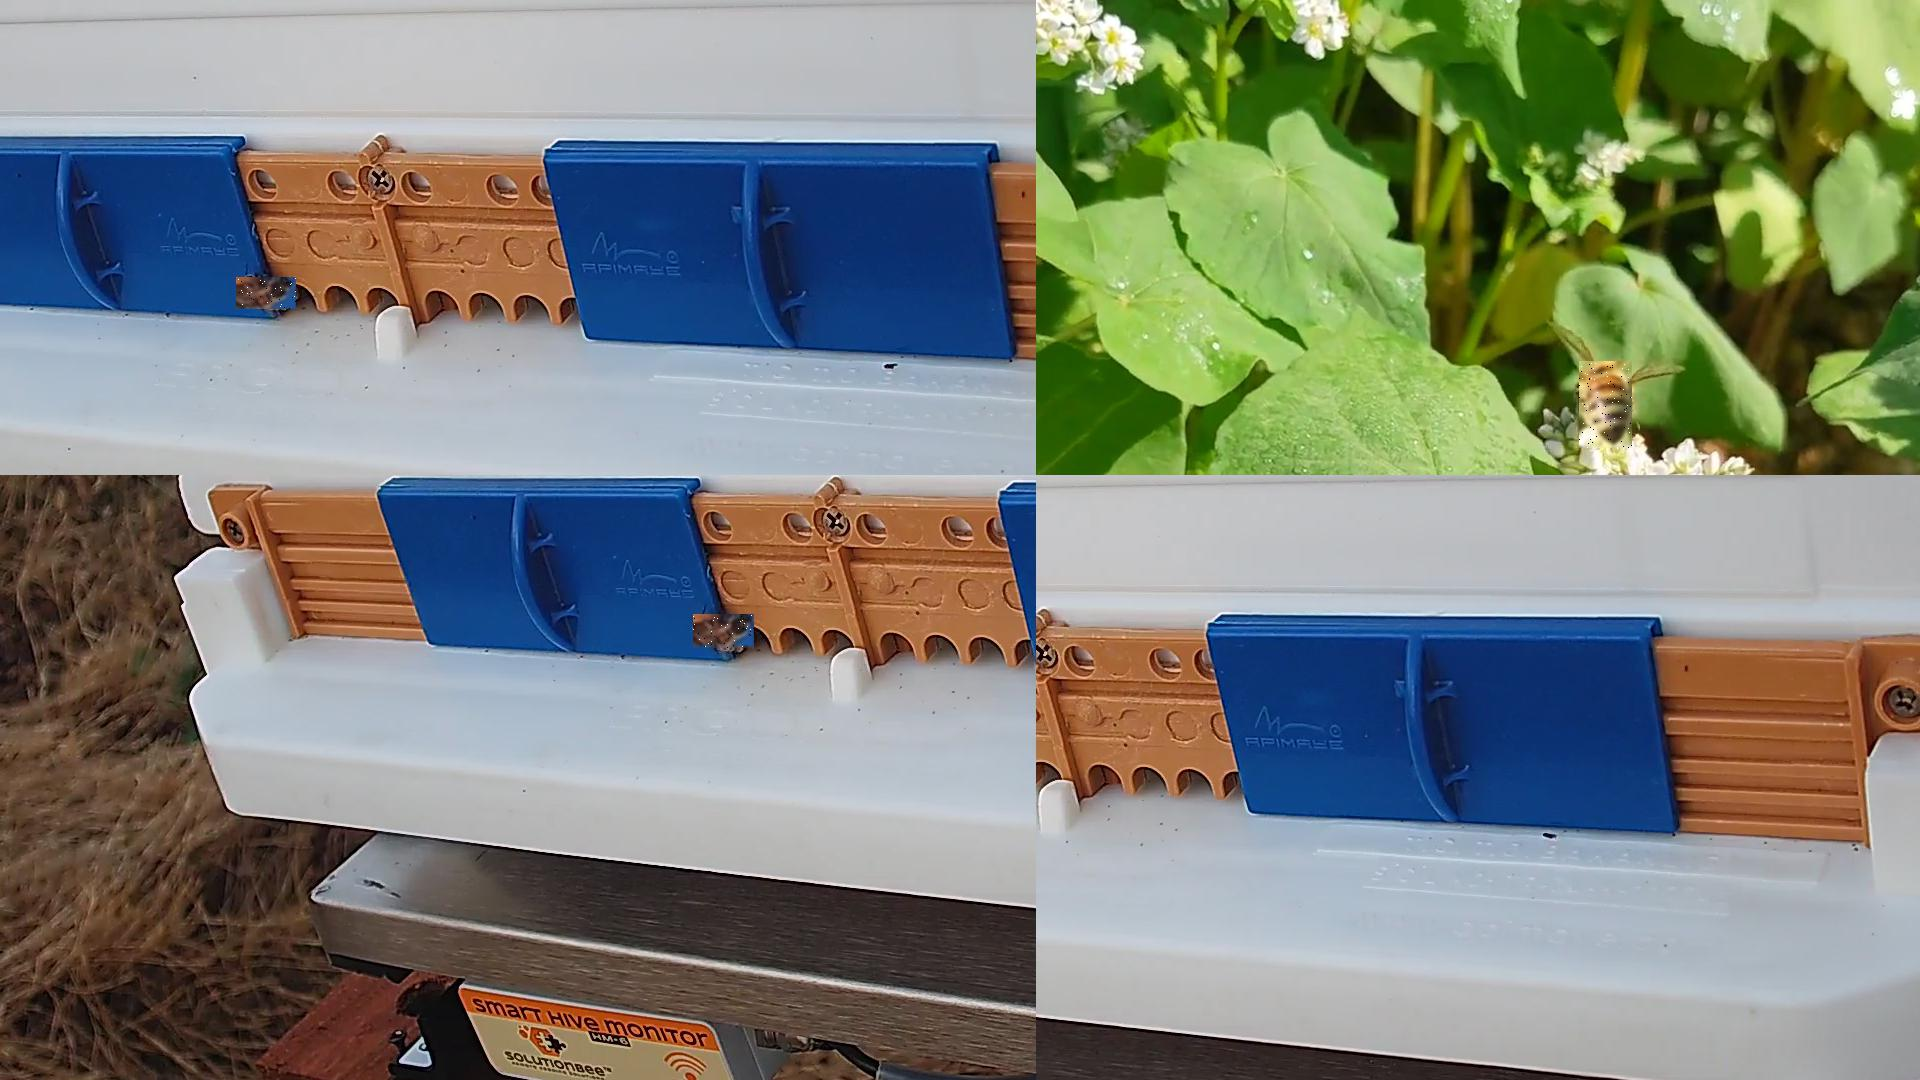bee: (1578, 361, 1633, 451), (694, 615, 756, 651), (236, 277, 297, 310)
